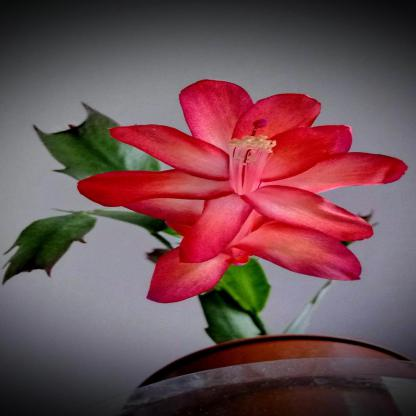Holiday Cactus: (2, 9, 401, 380)
